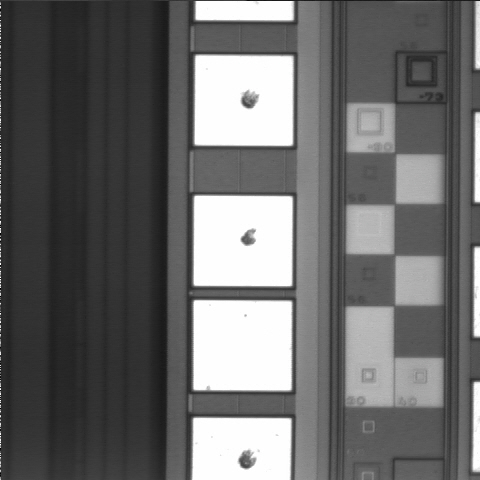pad: (193, 300, 292, 391), (195, 55, 293, 146), (194, 196, 293, 286)
